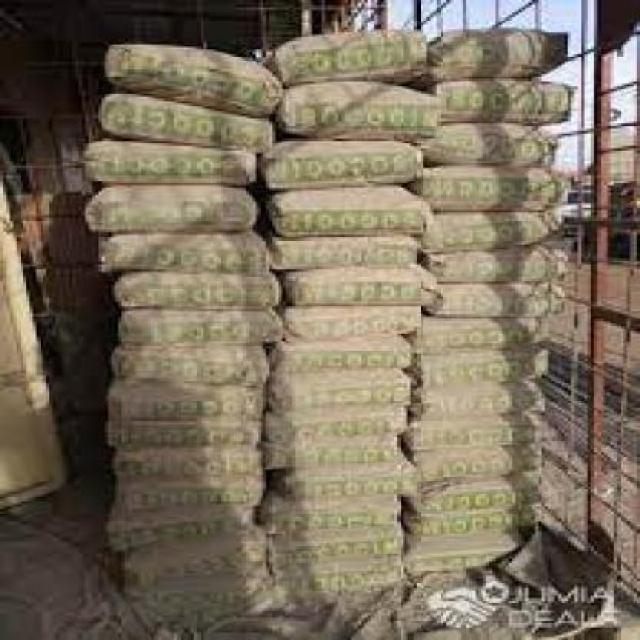gunny_bag: (114, 44, 284, 114), (271, 79, 442, 140), (112, 522, 274, 586), (96, 92, 278, 148), (81, 183, 260, 234), (267, 185, 438, 236), (409, 160, 571, 213), (256, 138, 420, 189), (114, 265, 282, 313), (98, 232, 282, 275), (85, 143, 256, 189), (265, 36, 424, 84), (287, 257, 435, 308), (409, 120, 558, 170), (114, 499, 260, 549), (429, 30, 562, 84), (411, 443, 549, 493), (116, 468, 263, 514), (431, 79, 569, 127), (118, 308, 289, 346), (123, 343, 260, 387), (280, 301, 420, 343), (120, 379, 256, 422), (267, 532, 409, 573), (407, 311, 554, 349), (416, 476, 551, 517), (422, 209, 556, 250), (269, 369, 411, 407), (267, 498, 411, 535), (429, 282, 569, 320), (418, 344, 540, 387), (260, 405, 407, 440), (414, 507, 543, 545), (409, 413, 549, 448), (271, 234, 418, 267), (120, 448, 265, 479), (431, 249, 567, 282), (118, 418, 256, 450), (276, 465, 403, 499), (260, 433, 394, 465), (271, 338, 400, 371), (418, 384, 540, 413)
